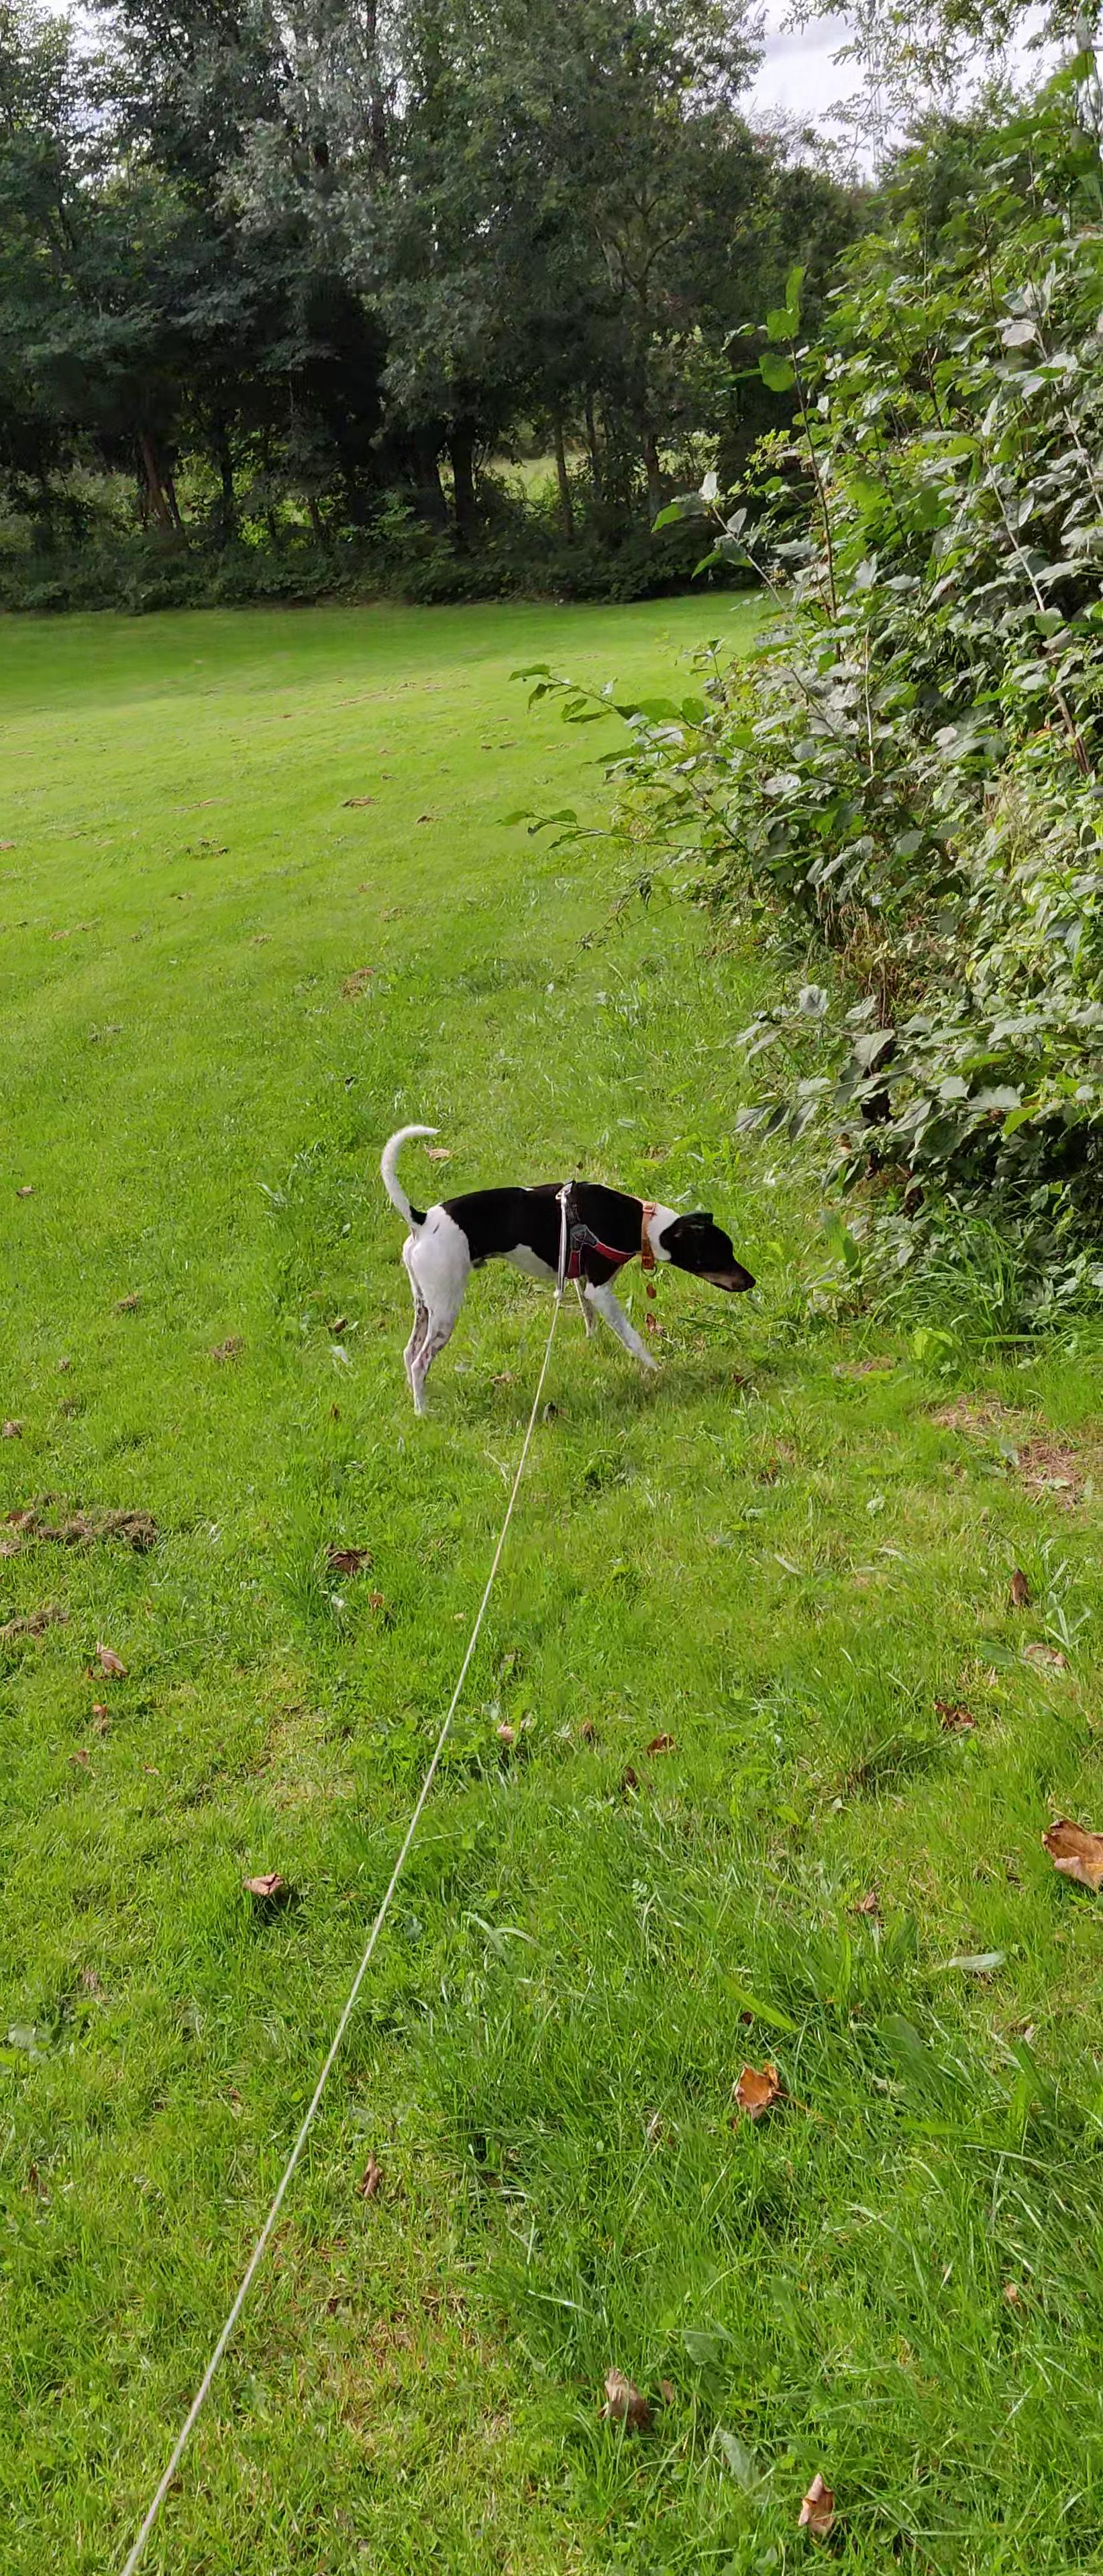Dog: (365, 1112, 763, 1418)
